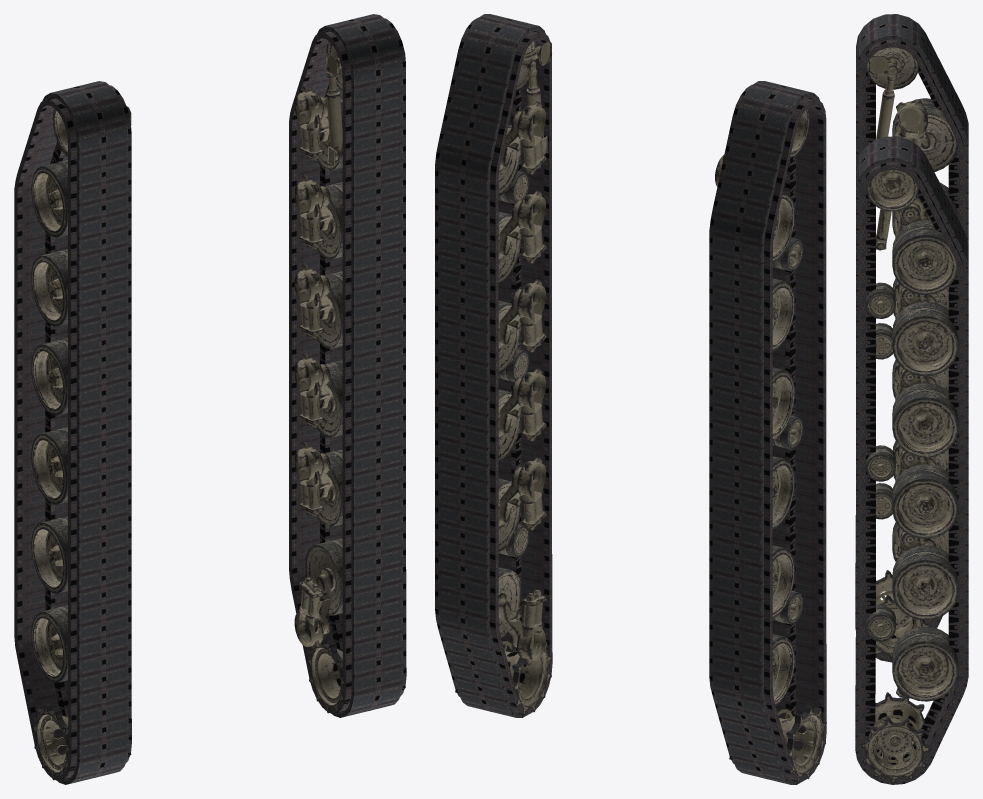
File: Chassis.glb
The picture shows the model from 3 angles, left to right: view 1: azimuth 30°, elevation 25°; view 2: azimuth 150°, elevation 25°; view 3: azimuth 270°, elevation 25°; orthographic projection. The views are drawn at different scales.
Parts seen in each view (by area): view 1: set_0_group_0, set_1_group_0, set_3_group_0, set_2_group_0; view 2: set_0_group_0, set_1_group_0, set_3_group_0, set_2_group_0; view 3: set_3_group_0, set_1_group_0, set_2_group_0, set_0_group_0.
Boxes of the visible parts, x1,y1,x2,y2 form: set_0_group_0: (14,81,131,784); set_1_group_0: (289,14,406,717); set_3_group_0: (294,41,406,713); set_2_group_0: (31,106,131,780); set_0_group_0: (709,81,826,784); set_1_group_0: (435,14,552,717); set_3_group_0: (455,40,552,715); set_2_group_0: (715,108,826,782); set_3_group_0: (859,170,958,783); set_1_group_0: (855,136,968,784); set_2_group_0: (866,47,958,661); set_0_group_0: (855,14,968,662).
Bounding box in the file's own units: 3.5 × 6.86 × 1.13.
Materials: 4 (4 with a texture image).
